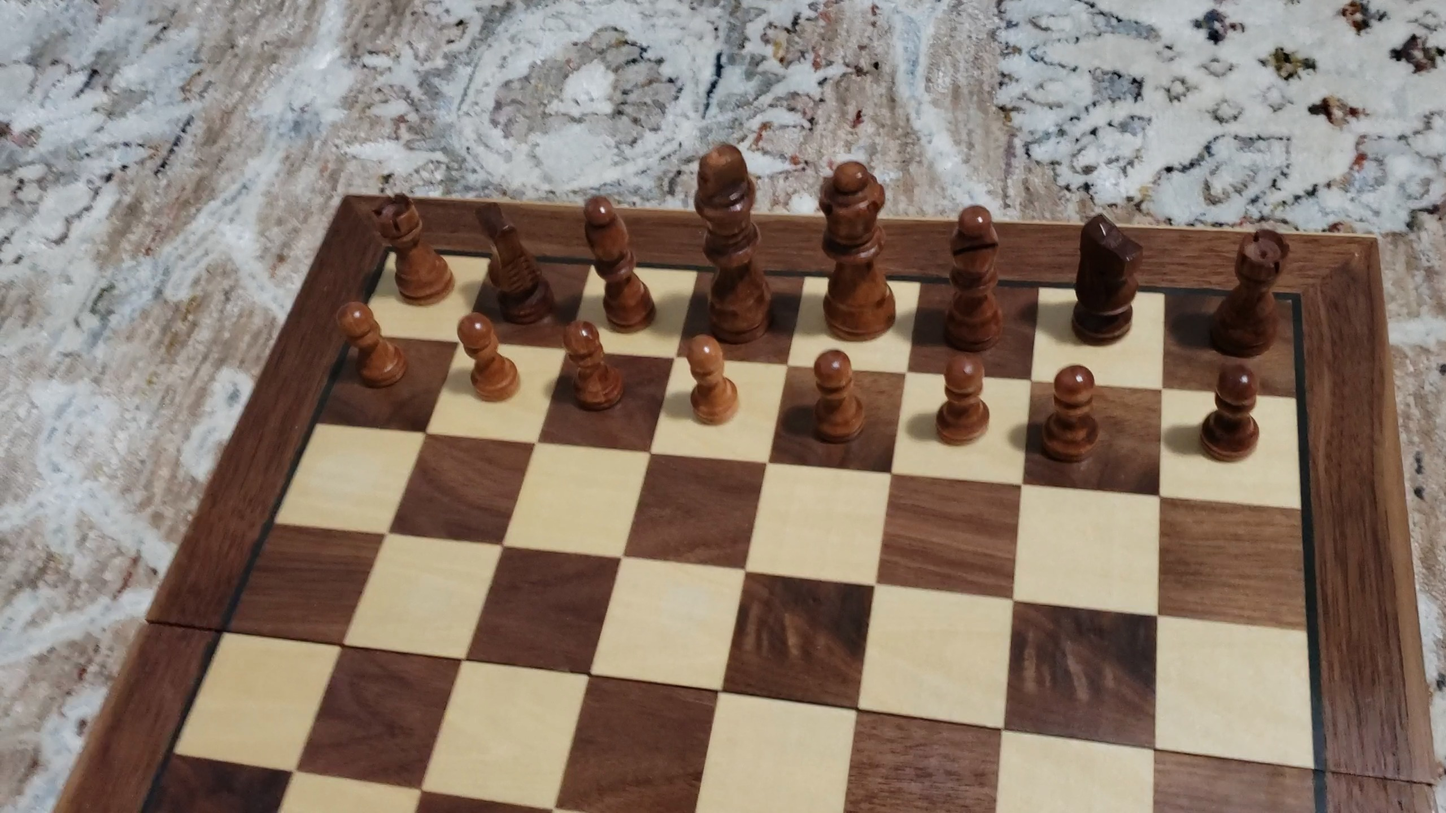black-bishop: (581, 191, 656, 333), (946, 201, 1003, 351)
black-king: (692, 139, 774, 346)
black-knight: (1070, 207, 1143, 343), (475, 199, 553, 325)
black-pawn: (1197, 361, 1264, 465), (1038, 361, 1103, 467), (334, 299, 408, 391), (562, 318, 625, 413), (456, 311, 519, 404), (809, 347, 868, 446), (933, 351, 992, 448), (683, 332, 739, 429)
black-queen: (814, 156, 896, 342)
black-rook: (1207, 226, 1292, 357), (371, 189, 454, 305)
